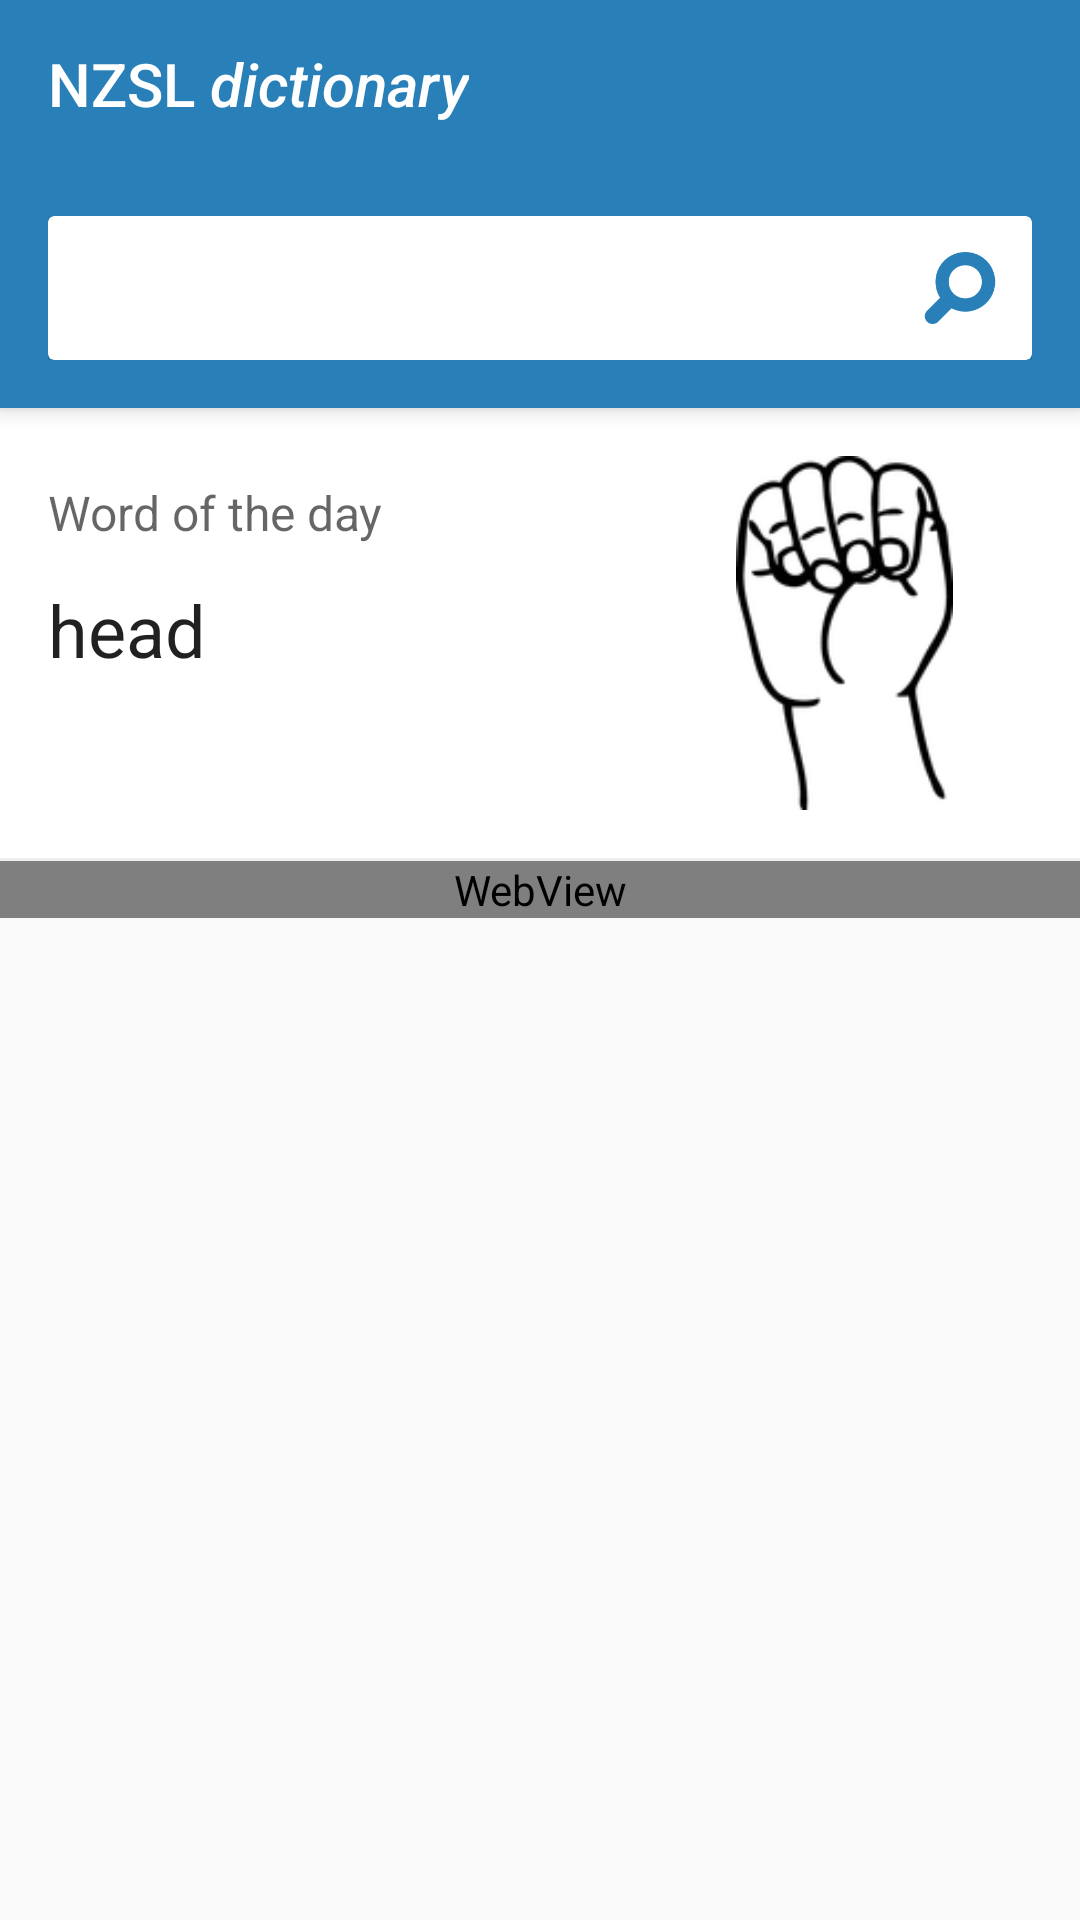

Named icons in this screenshot (1080w x 1920h) and their bounding boxes, (x1, y1, x2, y2):
handshape: (736, 456, 953, 810)
